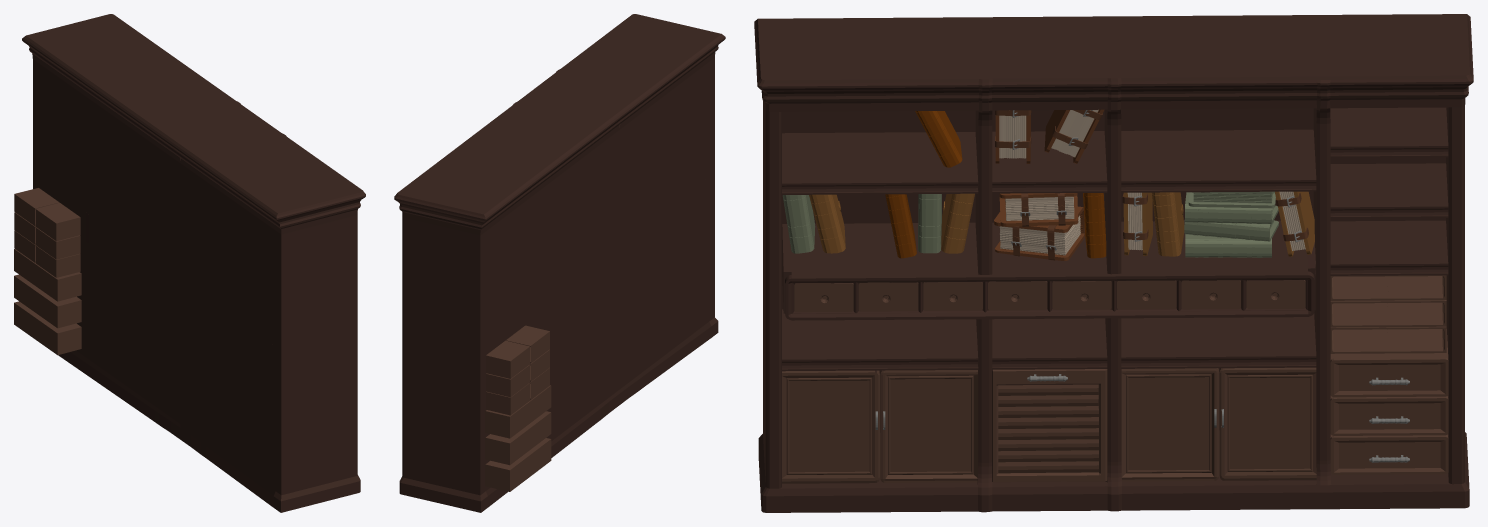
File: shkafblend.fbx
3 renders of one model, left to right at view 1: azimuth 30°, elevation 25°; view 2: azimuth 150°, elevation 25°; view 3: azimuth 270°, elevation 25°, orthographic. The views are drawn at different scales.
Parts seen in each view (by area): view 1: hkaf; view 2: hkaf; view 3: hkaf.
Part boxes in pixels (x1,y1,x2,y2): hkaf: [14, 14, 365, 512]; hkaf: [394, 14, 725, 512]; hkaf: [754, 14, 1473, 512].
Bounding box in the file's own units: 18.88 × 47.13 × 70.78.
